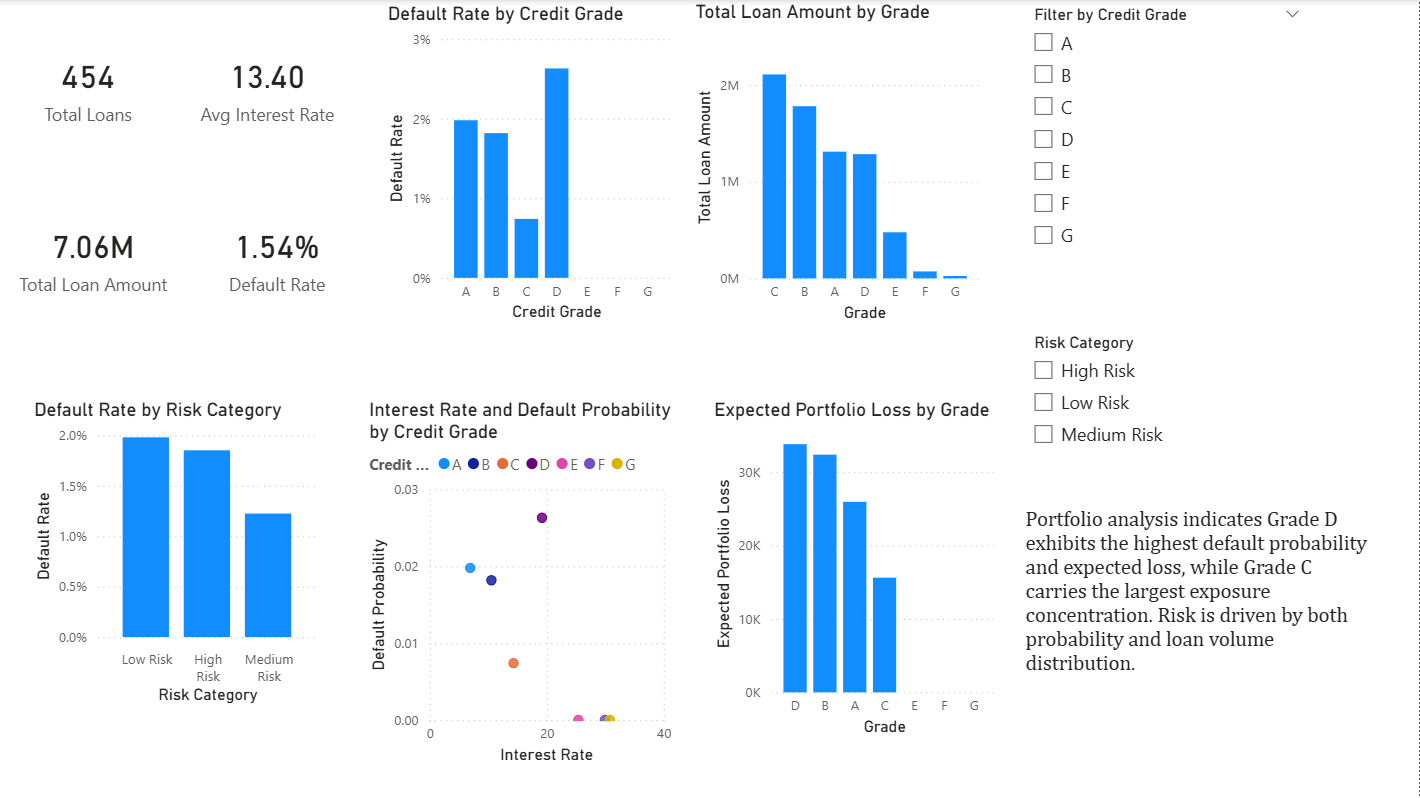

Layout of this report page (visuals, bound fields, positions):
{"tool":"powerbi","page":{"name":"Page 1","canvas":[1280,720],"ordinal":0},"visuals":[{"type":"card","fields":{"Values":["loans_full_schema.Total Loans"]},"box":[0,0,159.2,156.4],"z":0},{"type":"card","fields":{"Values":["loans_full_schema.Total Loan Amount"]},"box":[0,149.6,168.8,163.3],"z":1000},{"type":"card","fields":{"Values":["loans_full_schema.Default Rate"]},"box":[172.9,156.4,155.1,149.6],"z":2000},{"type":"card","fields":{"Values":["loans_full_schema.Avg Interest Rate"]},"box":[159.2,0,164.7,156.4],"z":3000},{"type":"clusteredColumnChart","fields":{"Category":["loans_full_schema.Risk Category"],"Y":["loans_full_schema.Default Rate"]},"box":[26.1,359.5,266.2,279.9],"z":4000},{"type":"clusteredColumnChart","fields":{"Category":["loans_full_schema.grade"],"Y":["loans_full_schema.Default Rate"]},"box":[344.4,2.7,266.2,292.3],"z":5000},{"type":"clusteredColumnChart","fields":{"Category":["loans_full_schema.grade"],"Y":["loans_full_schema.Total Loan Amount"]},"box":[621.6,0,266.2,295],"z":6000},{"type":"scatterChart","fields":{"X":["Avg(loans_full_schema.interest_rate)"],"Y":["Avg(loans_full_schema.Default Flag)"],"Series":["loans_full_schema.grade"]},"box":[328,359.5,282.7,333.4],"z":7000},{"type":"clusteredColumnChart","fields":{"Category":["loans_full_schema.grade"],"Y":["loans_full_schema.Expected Loss"]},"box":[639.5,359.5,266.2,308.7],"z":8000},{"type":"slicer","fields":{"Values":["loans_full_schema.grade"]},"box":[919.4,0,264.8,231.9],"z":9000},{"type":"slicer","fields":{"Values":["loans_full_schema.Risk Category"]},"box":[919.4,295,264.8,127.6],"z":10000},{"type":"textbox","box":[919.4,451.5,323.8,164.7],"z":10001}]}

Visuals, with their boxes in screenshot pixels (x1, y1, x2, y2), scaled from the page's 1280x720 canvas onto the 1420x798 screenshot:
card - loans_full_schema.Total Loans: {"left": 0, "top": 0, "right": 177, "bottom": 173}
card - loans_full_schema.Total Loan Amount: {"left": 0, "top": 166, "right": 187, "bottom": 347}
card - loans_full_schema.Default Rate: {"left": 192, "top": 173, "right": 364, "bottom": 339}
card - loans_full_schema.Avg Interest Rate: {"left": 177, "top": 0, "right": 359, "bottom": 173}
clusteredColumnChart - loans_full_schema.Risk Category x loans_full_schema.Default Rate: {"left": 29, "top": 398, "right": 324, "bottom": 709}
clusteredColumnChart - loans_full_schema.grade x loans_full_schema.Default Rate: {"left": 382, "top": 3, "right": 677, "bottom": 327}
clusteredColumnChart - loans_full_schema.grade x loans_full_schema.Total Loan Amount: {"left": 690, "top": 0, "right": 985, "bottom": 327}
scatterChart - Avg(loans_full_schema.interest_rate) x Avg(loans_full_schema.Default Flag): {"left": 364, "top": 398, "right": 677, "bottom": 768}
clusteredColumnChart - loans_full_schema.grade x loans_full_schema.Expected Loss: {"left": 709, "top": 398, "right": 1005, "bottom": 741}
slicer - loans_full_schema.grade: {"left": 1020, "top": 0, "right": 1314, "bottom": 257}
slicer - loans_full_schema.Risk Category: {"left": 1020, "top": 327, "right": 1314, "bottom": 468}
textbox: {"left": 1020, "top": 500, "right": 1379, "bottom": 683}
